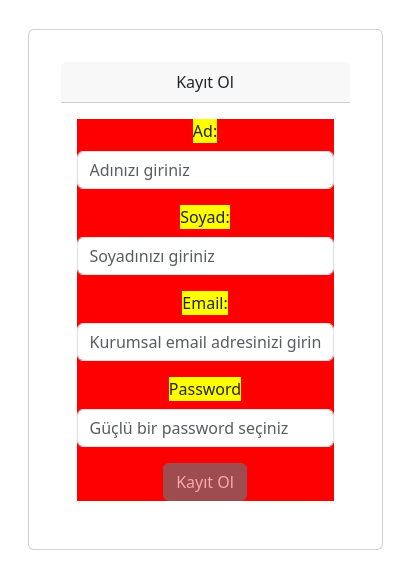
Register Page › Error Messages › Surname input throws error for 2 chars
The image size is (412, 579).
Type "gu" into the field with test id "soyad-input" at (206, 256), box 77,237 -> 334,275
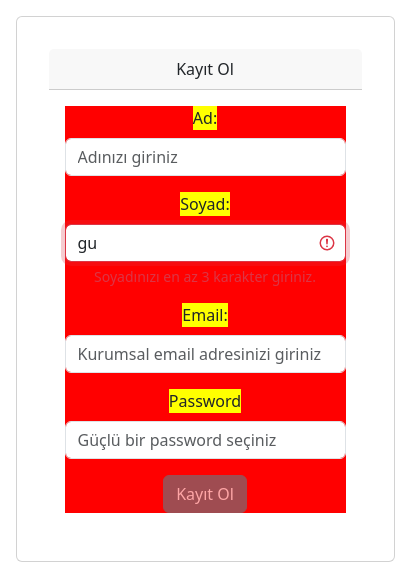
Check: the text "Soyadınızı en az 3 karakter giriniz." is shown, box 94,267 -> 316,286
